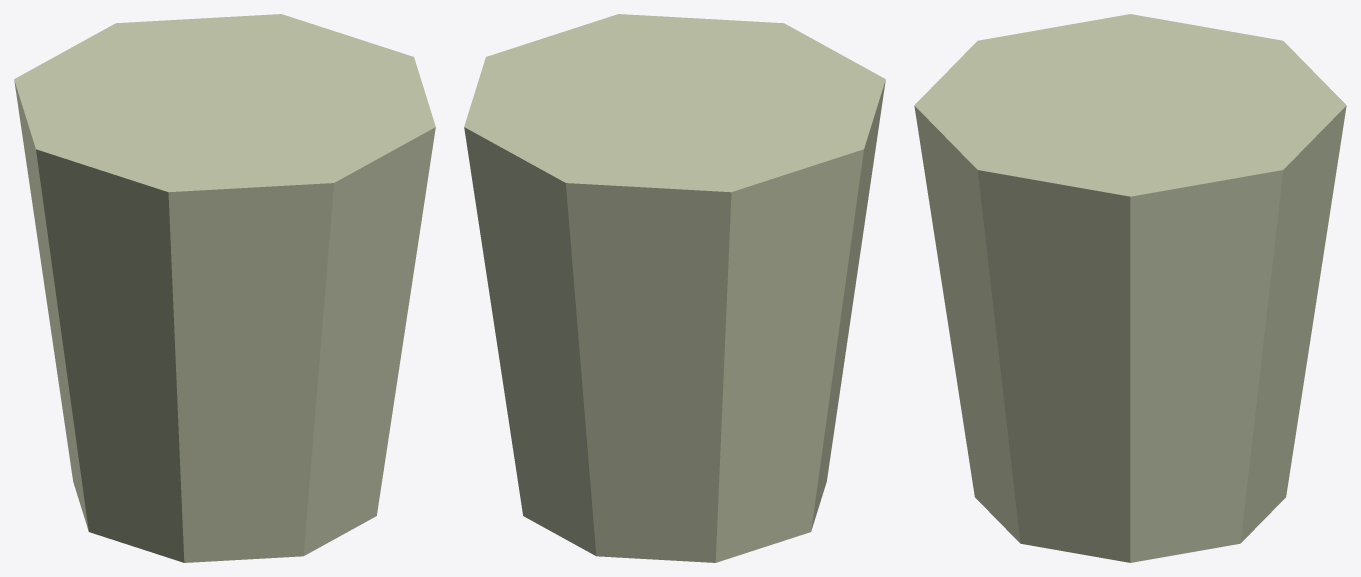
Rendered from alnair_us_engine_s1_1_collider.obj.
3 views of the same model, side by side, from view 1: azimuth 30°, elevation 25°; view 2: azimuth 150°, elevation 25°; view 3: azimuth 270°, elevation 25° (orthographic).
Parts seen in each view (by area): view 1: collider; view 2: collider; view 3: collider.
Part boxes in pixels (bbox=[...]): collider: bbox=[14, 14, 435, 562]; collider: bbox=[464, 14, 885, 562]; collider: bbox=[914, 14, 1346, 562].
Size of the model in its own units: 1.25 by 1.25 by 1.25.
